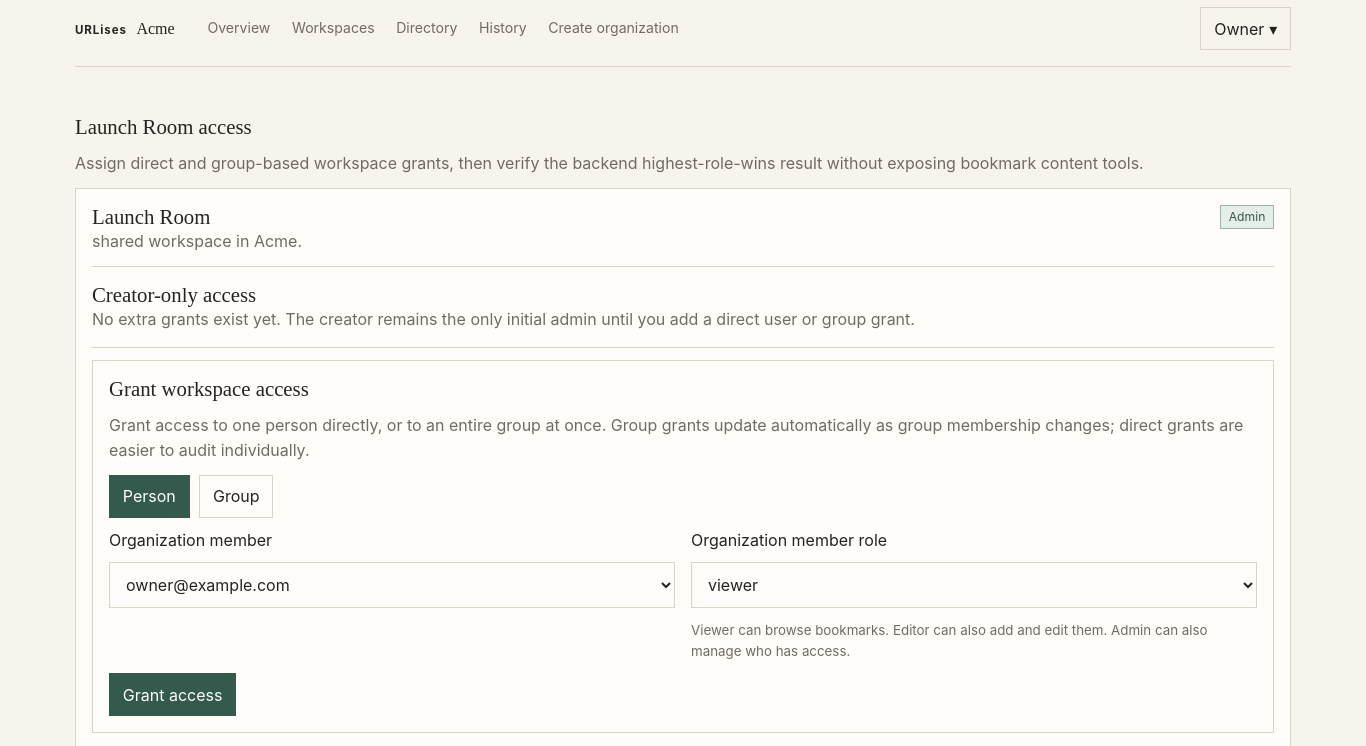
access page › adds a new direct grant and refreshes the snapshot
The image size is (1366, 746).
Expected: the heading "Creator-only access" is shown, top-left (92, 283), bottom-right (256, 306)
Select "editor@example.com" in the dropdown labelled "Organization member": (392, 585) top-left (109, 562), bottom-right (675, 608)
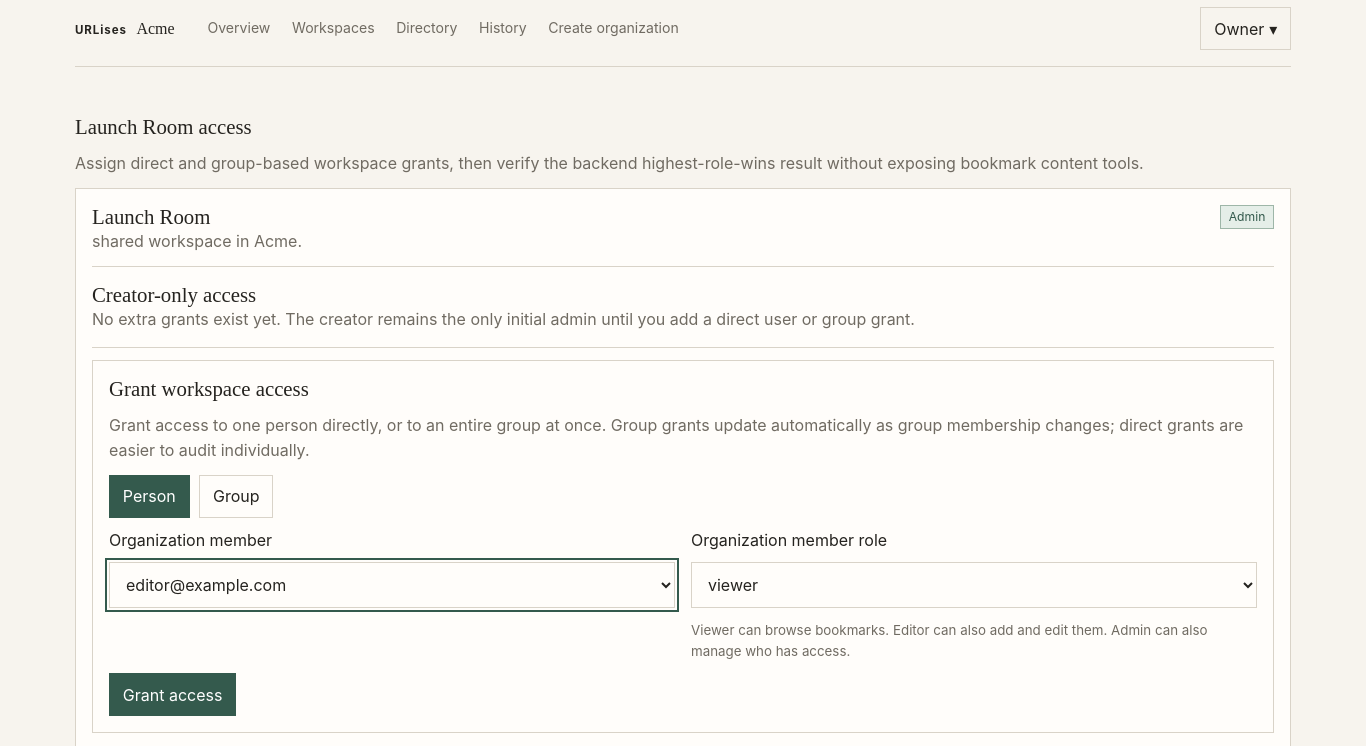
Select "editor" in the dropdown labelled "Organization member role": (974, 585) top-left (691, 562), bottom-right (1257, 608)
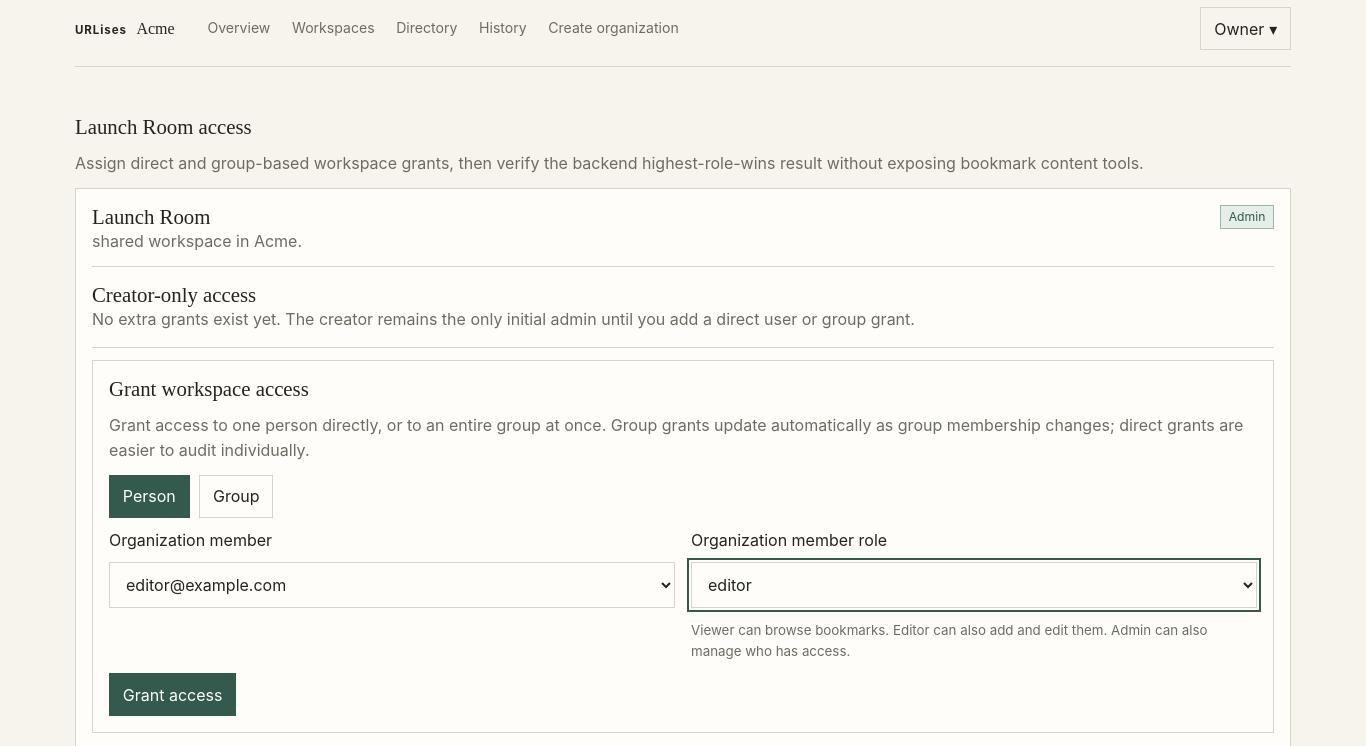
Click the button "Grant access": click(173, 695) top-left (109, 674), bottom-right (236, 716)
(page scrolled)
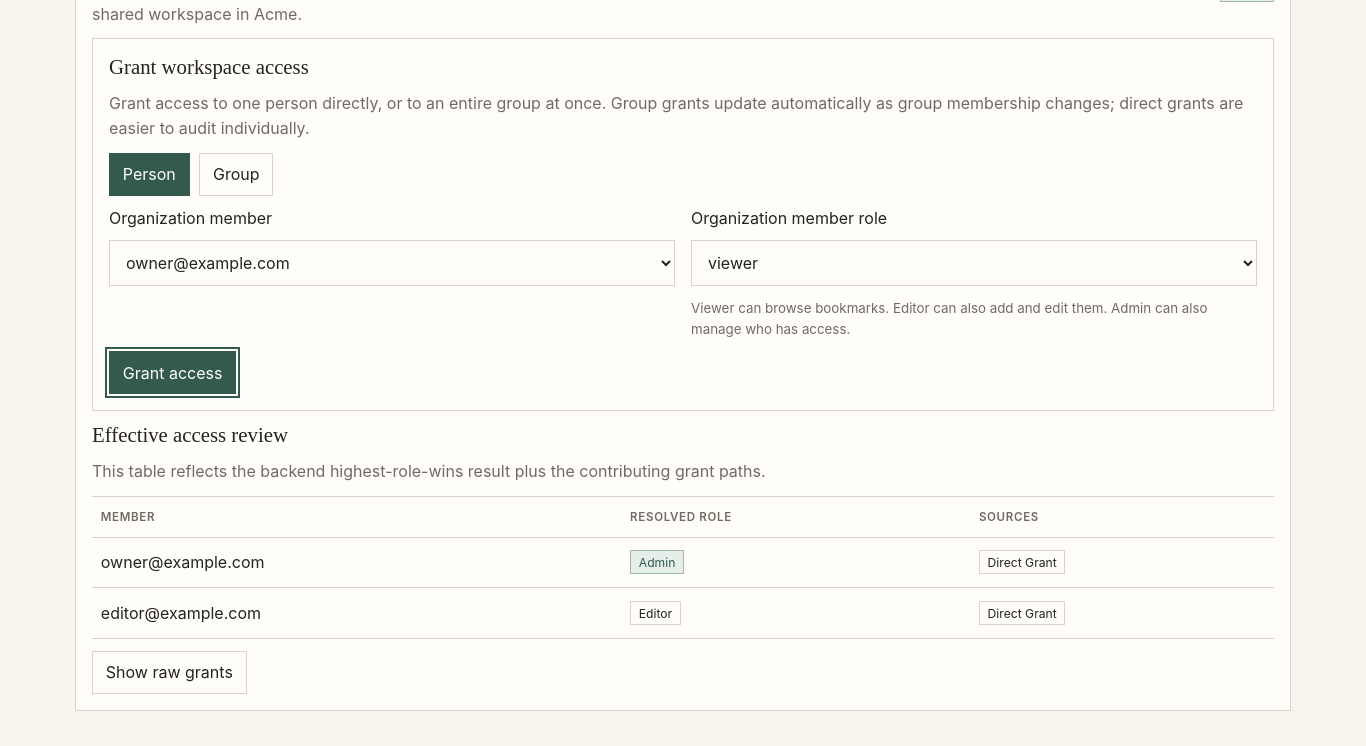
Result: the text "editor@example.com" is shown at top-left (92, 588), bottom-right (621, 638)
